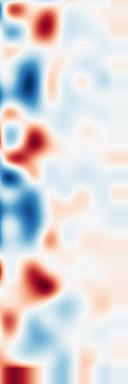filament: (7, 120, 56, 177), (19, 256, 67, 309), (29, 0, 63, 55)
